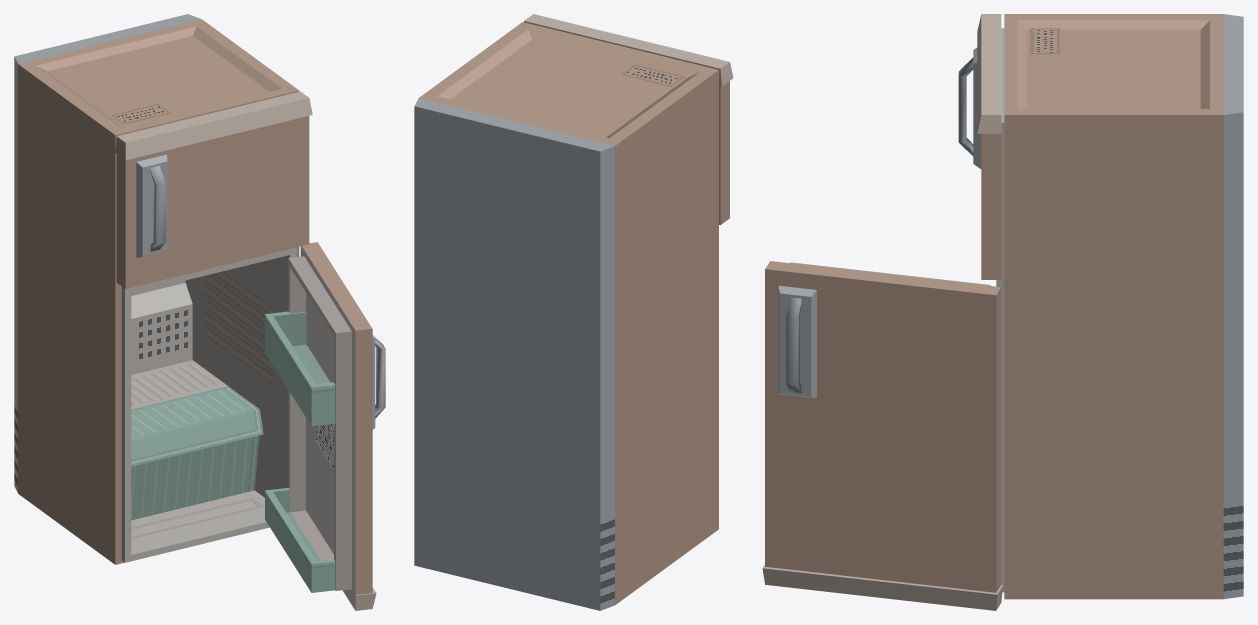
File: 0538_Fridge.glb
The picture shows the model from 3 angles, left to right: view 1: azimuth 30°, elevation 25°; view 2: azimuth 150°, elevation 25°; view 3: azimuth 270°, elevation 25°; orthographic projection. The views are drawn at different scales.
Visible parts, largest first — view 1: part_0; view 2: part_0; view 3: part_0.
Part boxes in pixels (box(x1,y1,x2,y2)): part_0: box(14, 14, 385, 610); part_0: box(414, 14, 733, 610); part_0: box(762, 14, 1243, 610).
Size of the model in its own units: 0.664 by 1.35 by 1.21.
1 material, 1 textured.
